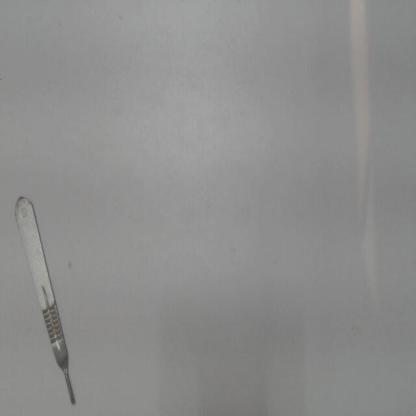No.3 BP Handle: (9, 185, 81, 410)
